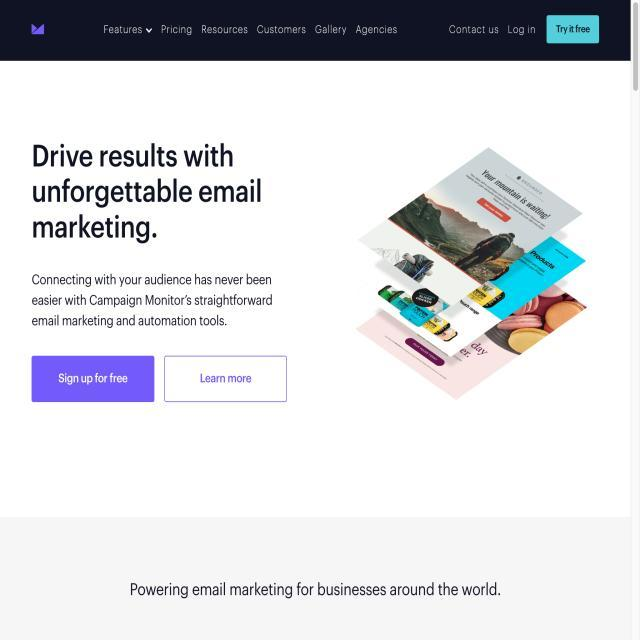button: (166, 356, 286, 403), (31, 356, 154, 401), (546, 15, 599, 44)
navigation bar: (95, 14, 406, 52)
text: (28, 138, 264, 246), (28, 261, 278, 329)
